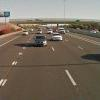Car: (29, 30, 63, 49)
